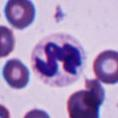N: (30, 32, 88, 87)
